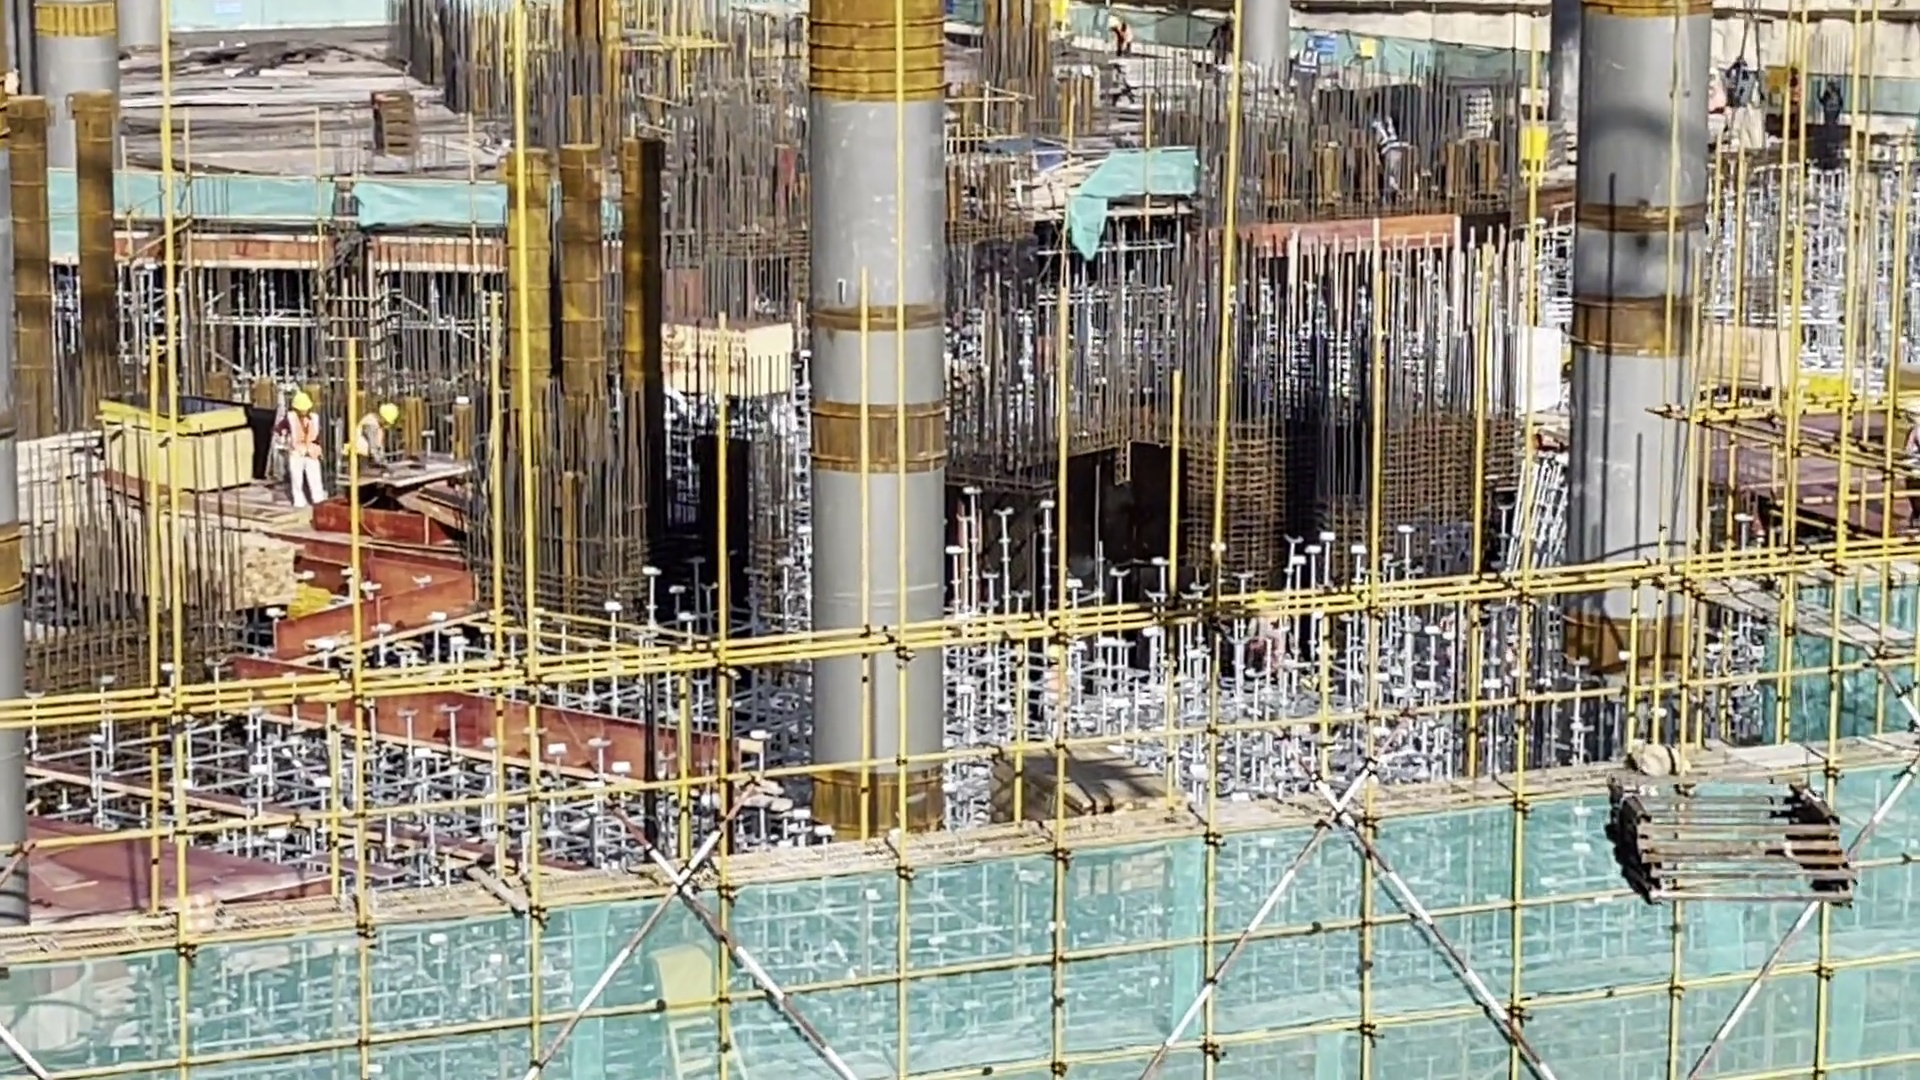board: (95, 377, 245, 501), (986, 755, 1197, 841)
ebox: (645, 939, 745, 1080)
helmet: (287, 390, 317, 421), (375, 401, 400, 433)
person: (276, 387, 331, 515), (351, 395, 406, 480), (1101, 13, 1150, 66), (1211, 6, 1244, 70)
vest: (283, 415, 322, 466), (357, 415, 387, 467)
